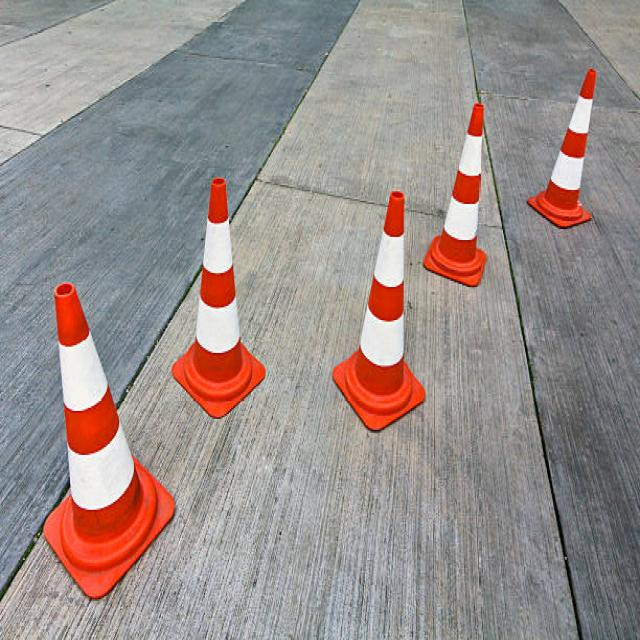Traffic Cone: (20, 252, 184, 618), (160, 155, 276, 436), (329, 164, 429, 444), (522, 51, 614, 249), (424, 87, 490, 307)
